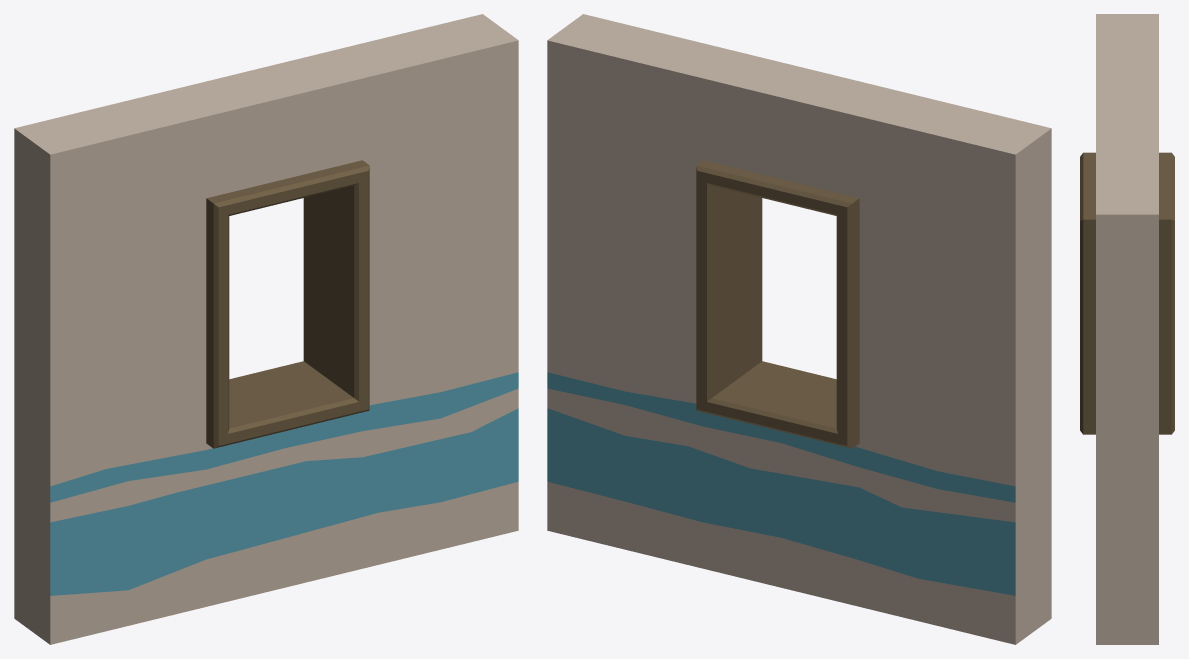
Rendered from greek_wall_3_window.fbx.
3 views of the same model, side by side, from view 1: azimuth 30°, elevation 25°; view 2: azimuth 150°, elevation 25°; view 3: azimuth 270°, elevation 25° (orthographic). The views are drawn at different scales.
Visible parts, largest first — view 1: Cube.054; view 2: Cube.054; view 3: Cube.054.
Boxes of the visible parts, x1,y1,x2,y2 form: Cube.054: (14, 14, 518, 644); Cube.054: (547, 14, 1051, 644); Cube.054: (1080, 14, 1174, 644).
Bounding box in the file's own units: 300 × 300 × 60.
